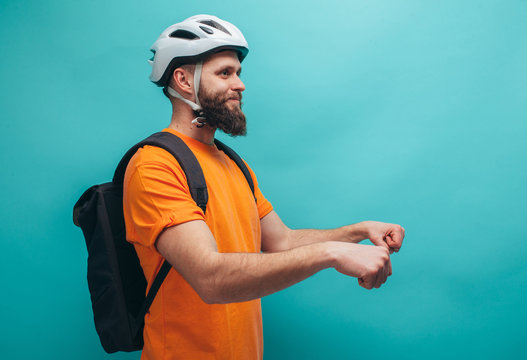helmet: (148, 14, 249, 136)
